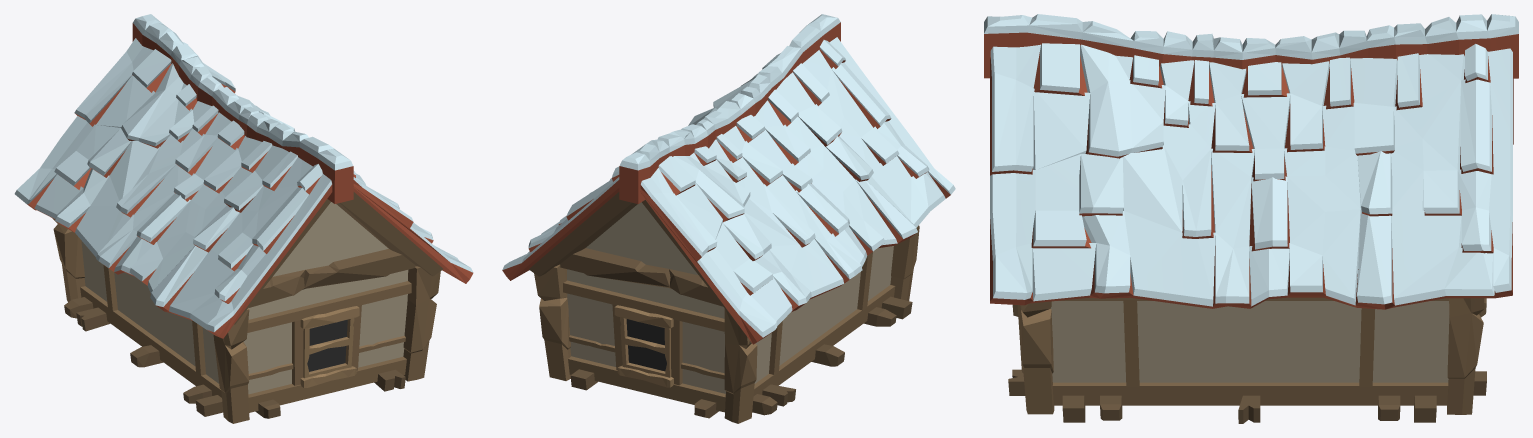
File: SM_Bld_House_RoomTop_06_Snow.gltf
3 views of the same model, side by side, from view 1: azimuth 30°, elevation 25°; view 2: azimuth 150°, elevation 25°; view 3: azimuth 270°, elevation 25° (orthographic). The views are drawn at different scales.
Visible parts, largest first — view 1: SM_Bld_House_RoomTop_06_Snow; view 2: SM_Bld_House_RoomTop_06_Snow; view 3: SM_Bld_House_RoomTop_06_Snow.
Boxes of the visible parts, x1,y1,x2,y2 form: SM_Bld_House_RoomTop_06_Snow: (14,14,473,423); SM_Bld_House_RoomTop_06_Snow: (502,14,955,423); SM_Bld_House_RoomTop_06_Snow: (984,14,1518,423).
Bounding box in the file's own units: 5.43 × 4.74 × 6.86.
1 material, 1 textured.
